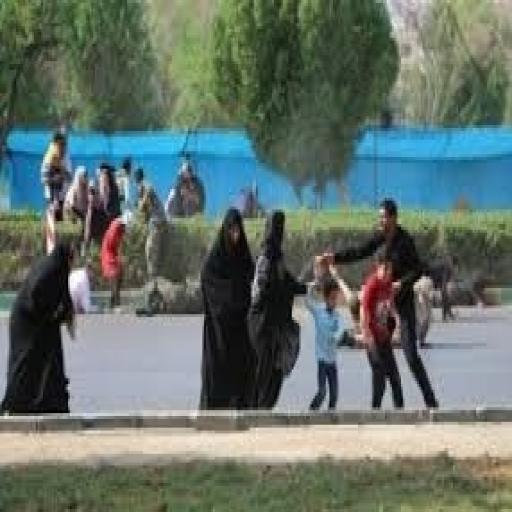running: (321, 195, 442, 413), (2, 233, 84, 419), (246, 207, 312, 413), (197, 204, 260, 416), (303, 256, 358, 419), (356, 247, 406, 413)
